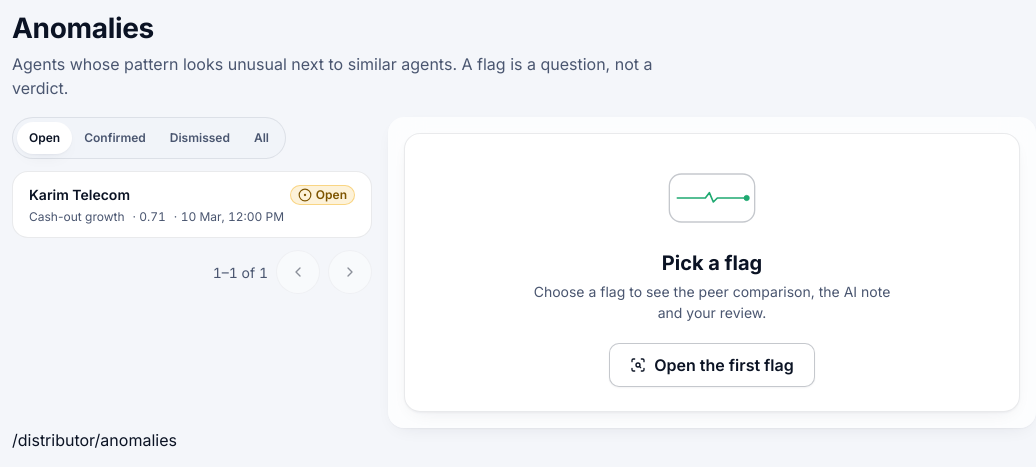
Test: anomalies › keeps the status filter in the URL
Expected: the link with test id "anomaly-row" is shown, top-left (12, 171), bottom-right (372, 238)
Click the radio button labelled "All". click: (261, 138)
box: top-left (242, 122), bottom-right (281, 154)
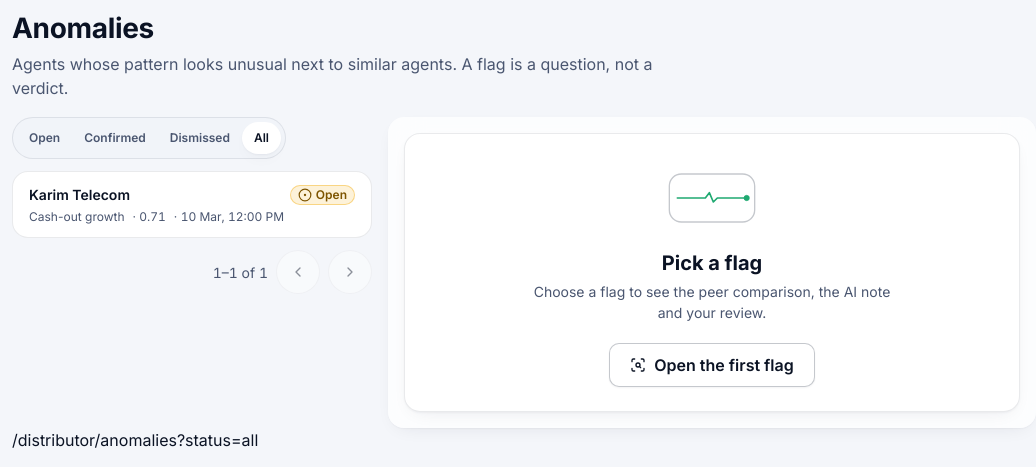
Expected: the text with test id "location" shows "status=all", top-left (12, 430), bottom-right (258, 450)
